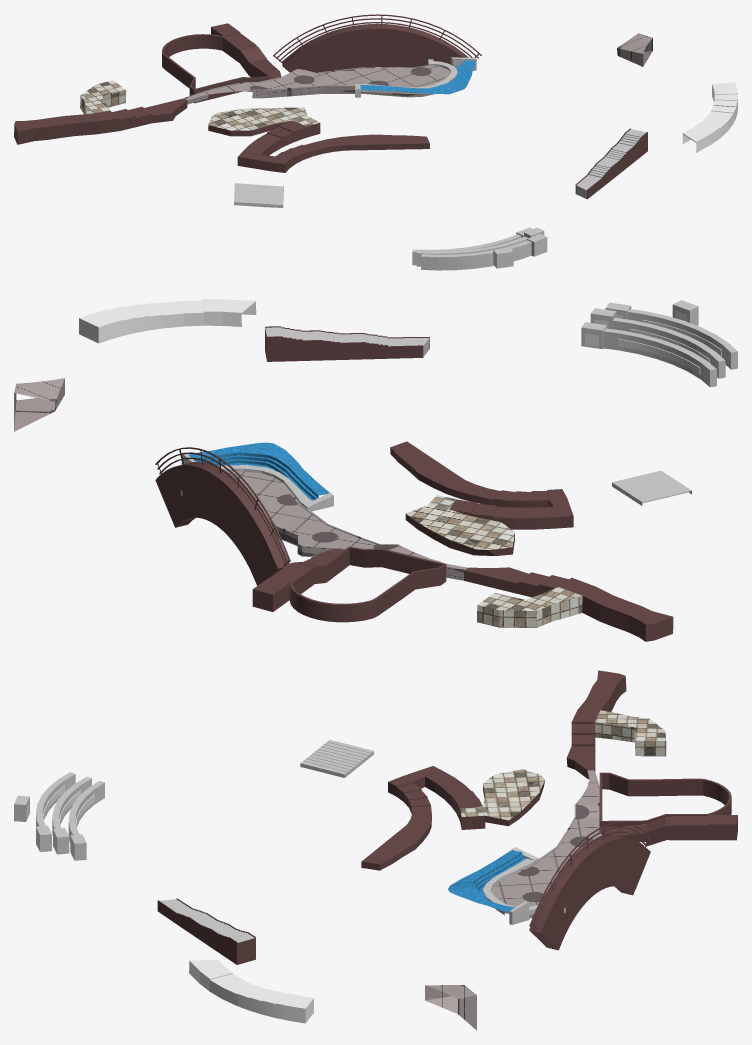
Rendered from Others 01.FBX.
3 renders of one model, top to bottom at view 1: azimuth 30°, elevation 25°; view 2: azimuth 150°, elevation 25°; view 3: azimuth 270°, elevation 25°, orthographic. The views are drawn at different scales.
Visible parts, largest first — view 1: Others, Box029, Box015, Cylinder009, Box003, Box026, Box022, Box010, Tube001, Cylinder008, Box021, Box019; view 2: Others, Box029, Box015, Cylinder009, Box026, Box003, Tube001, Box019, Box022, Box021, Box010, Cylinder008 (+1 smaller); view 3: Others, Box029, Box015, Box026, Cylinder009, Box003, Box010, Tube001, Cylinder008, Box019, Box022, Box021.
Part boxes in pixels (x1,y1,x2,y2): Others: [14, 23, 652, 144]; Box029: [273, 14, 481, 72]; Box015: [208, 120, 429, 172]; Cylinder009: [162, 27, 270, 103]; Box003: [575, 128, 647, 199]; Box026: [682, 82, 737, 152]; Box022: [421, 240, 531, 270]; Box010: [234, 183, 283, 207]; Tube001: [360, 60, 475, 94]; Cylinder008: [355, 57, 476, 97]; Box021: [416, 236, 527, 266]; Box019: [412, 234, 521, 265]; Others: [14, 378, 673, 641]; Box029: [155, 447, 290, 585]; Box015: [390, 441, 573, 555]; Cylinder009: [273, 546, 446, 622]; Box026: [79, 299, 256, 343]; Box003: [265, 326, 429, 361]; Tube001: [188, 442, 329, 500]; Box019: [603, 328, 716, 387]; Box022: [627, 309, 737, 369]; Box021: [612, 317, 725, 378]; Box010: [612, 470, 691, 505]; Cylinder008: [180, 452, 333, 511]; Others: [425, 670, 737, 1030]; Box029: [529, 822, 650, 950]; Box015: [361, 766, 544, 870]; Box026: [189, 959, 313, 1023]; Cylinder009: [599, 772, 731, 826]; Box003: [157, 898, 255, 964]; Box010: [300, 740, 373, 777]; Tube001: [448, 850, 526, 912]; Cylinder008: [482, 847, 565, 924]; Box019: [68, 781, 104, 842]; Box022: [36, 772, 75, 826]; Box021: [52, 776, 91, 835].
Size of the model in its own units: 6943 by 843 by 6329.
4 materials, 3 textured.
